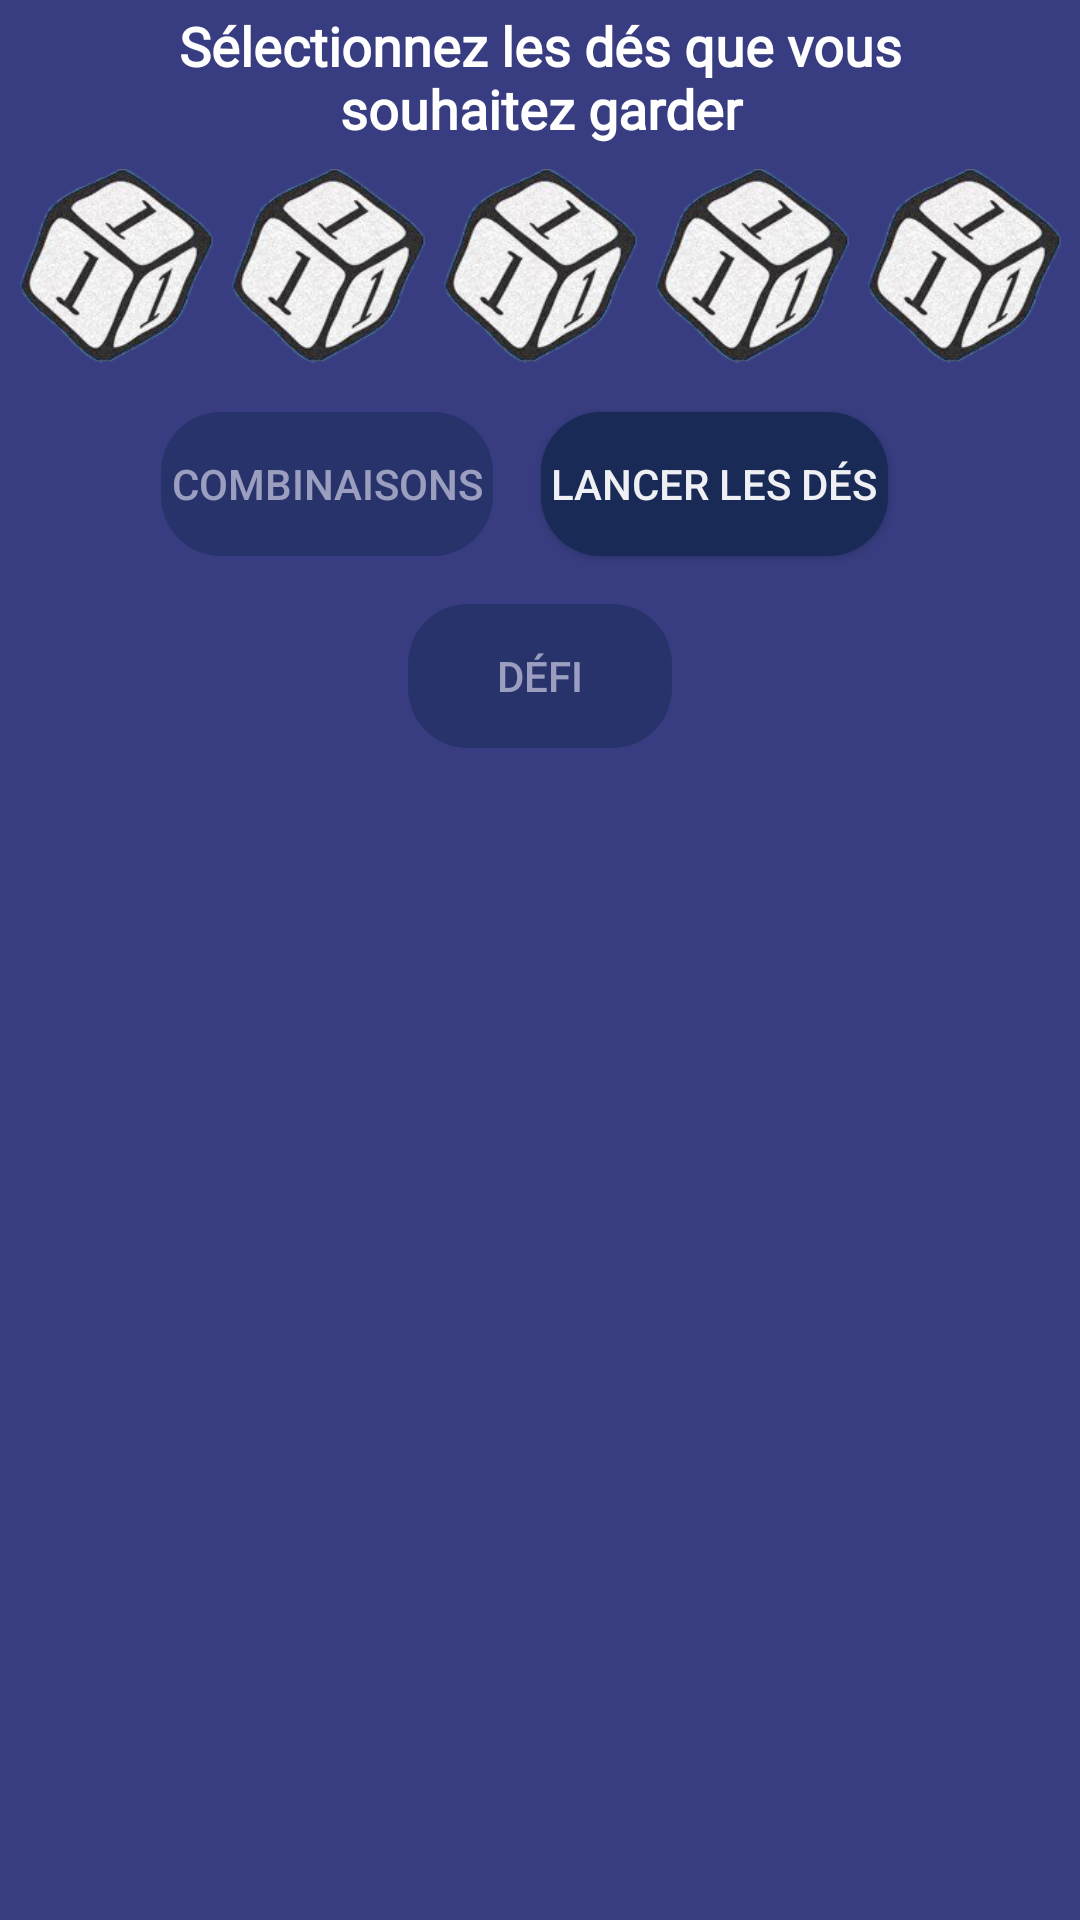

Icons on this 1080px x 1920px Android screen, each with the point to tap as (x,y):
des un: (117,265), (329,265), (541,265), (753,265), (965,265)
